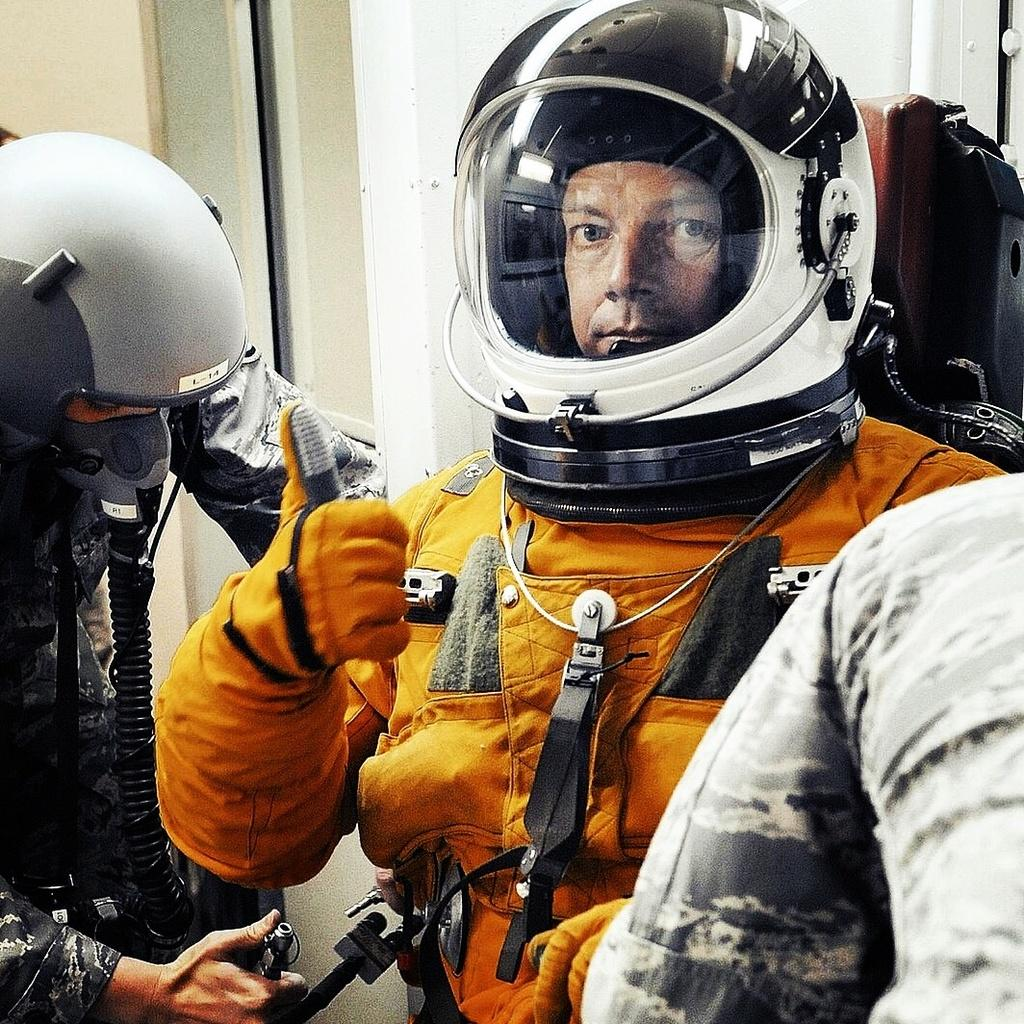helmet: (452, 0, 878, 492), (0, 131, 250, 503)
